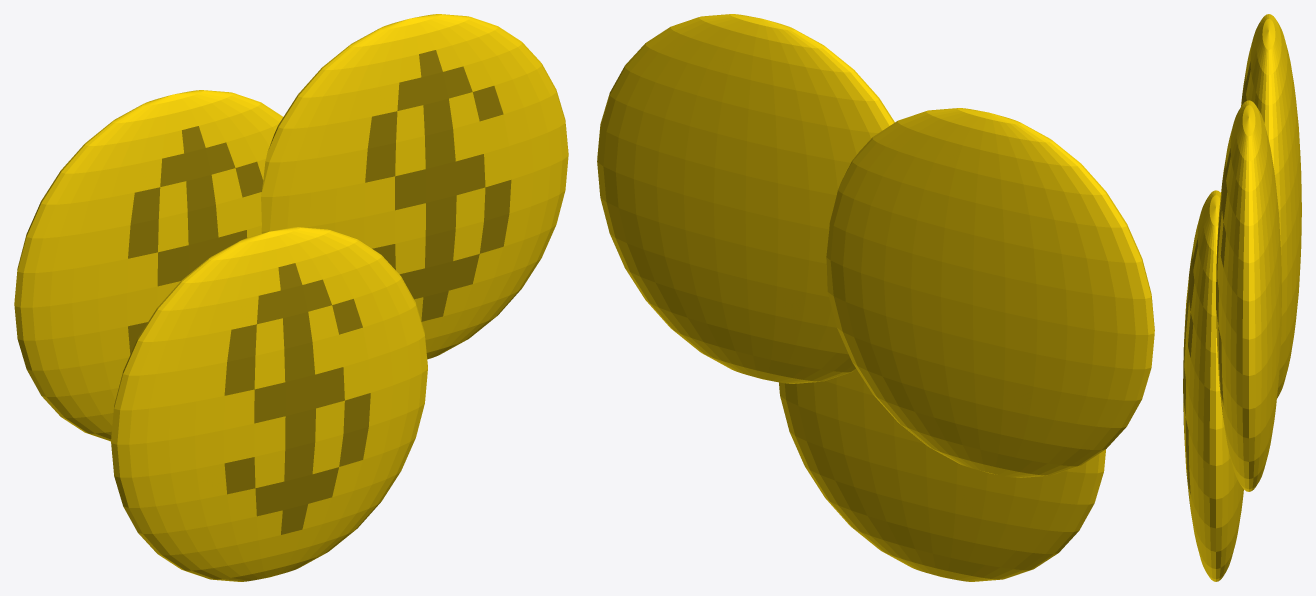
File: money.fbx
The picture shows the model from 3 angles, left to right: view 1: azimuth 30°, elevation 25°; view 2: azimuth 150°, elevation 25°; view 3: azimuth 270°, elevation 25°; orthographic projection. The views are drawn at different scales.
Parts seen in each view (by area): view 1: Sphere, Sphere.001, Sphere.002; view 2: Sphere.002, Sphere.001, Sphere; view 3: Sphere.001, Sphere, Sphere.002.
Part boxes in pixels (x1,y1,x2,y2): Sphere: (111, 227, 427, 581); Sphere.001: (261, 14, 568, 359); Sphere.002: (14, 90, 282, 441); Sphere.002: (826, 108, 1154, 477); Sphere.001: (597, 14, 894, 383); Sphere: (779, 369, 1105, 581); Sphere.001: (1216, 100, 1281, 491); Sphere: (1183, 190, 1243, 581); Sphere.002: (1241, 14, 1301, 398).
Size of the model in its own units: 185 by 166 by 33.91.
